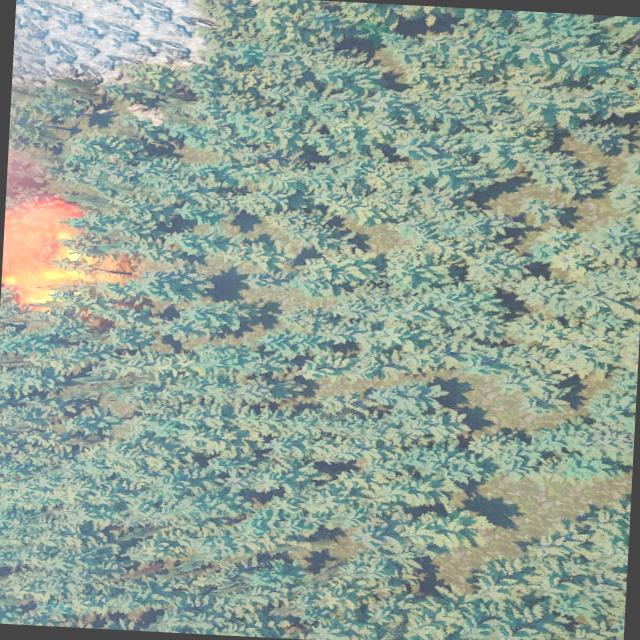fire: (0, 228, 88, 314)
smoke: (2, 138, 84, 282)
